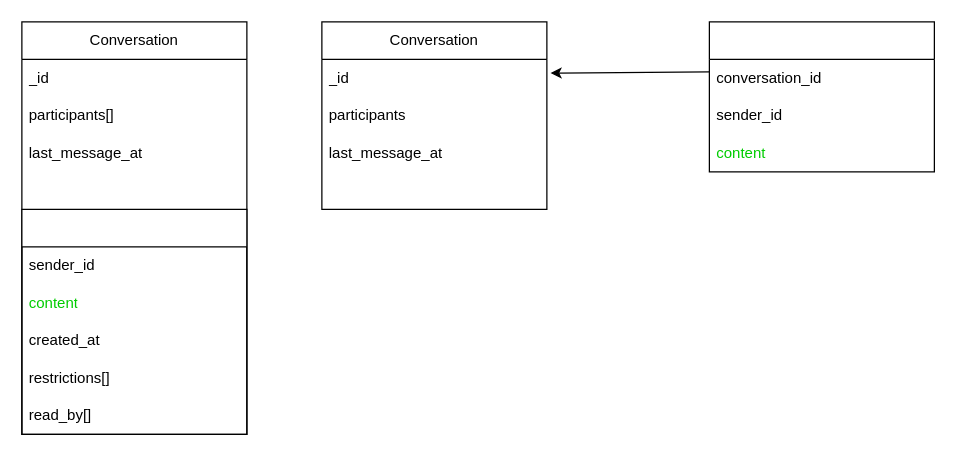
The diagram is 956 pixels wide and 456 high, and some of its shapes have lost their labels. The box of each missing label's shape, as (x1, y1, x2, y2) in pixels:
Message: (708, 21, 934, 172)
messages[]: (21, 208, 247, 434)
